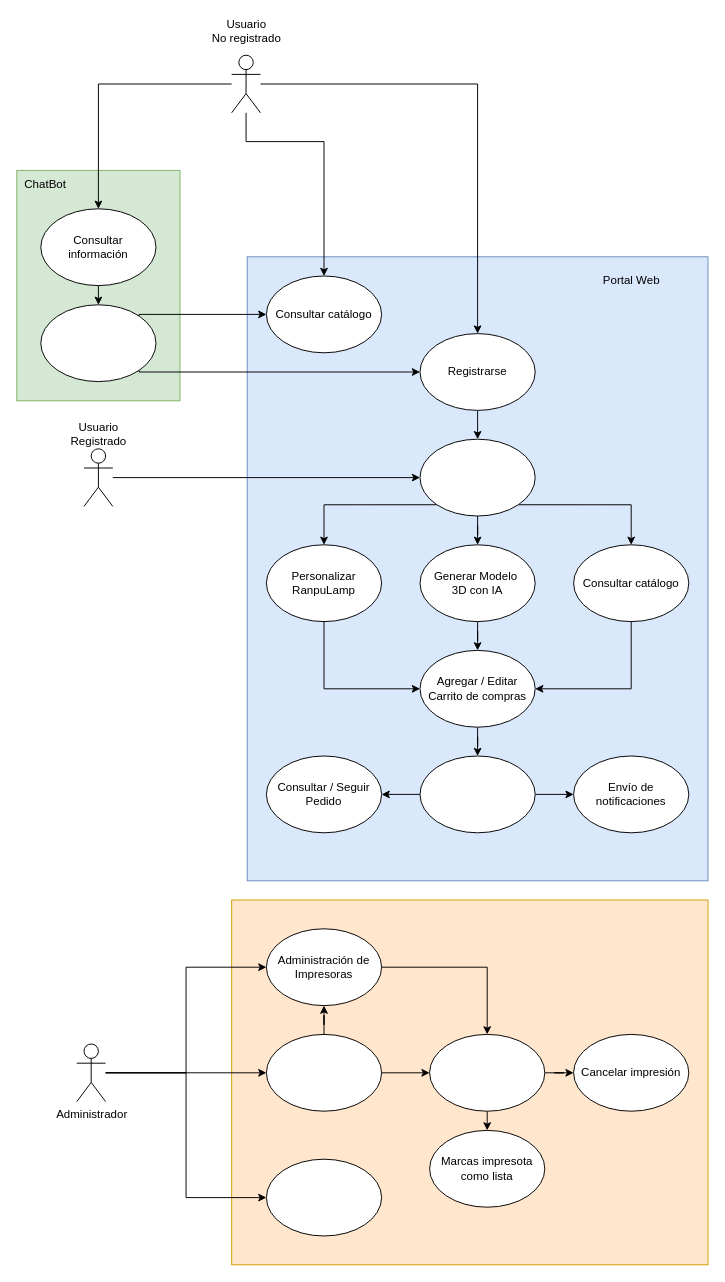
Some shapes in this 725 by 1282 pixel diagram are drawn without their labels. The centre of each missing label's shape, as x and y in pixels:
Administración de Filamentos: point (323, 1197)
Administración de Pedidos: point (323, 1072)
Iniciar Sesión: point (477, 477)
Re alizar Pago: point (477, 794)
Redirección a Aplicación Web: point (98, 343)
Ver estado de impresión: point (487, 1072)
